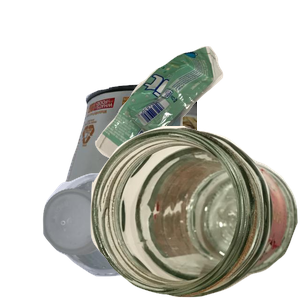glass: (90, 126, 300, 300)
metal: (60, 82, 300, 262)
plastic: (40, 170, 187, 300)
trash: (92, 44, 300, 211)
